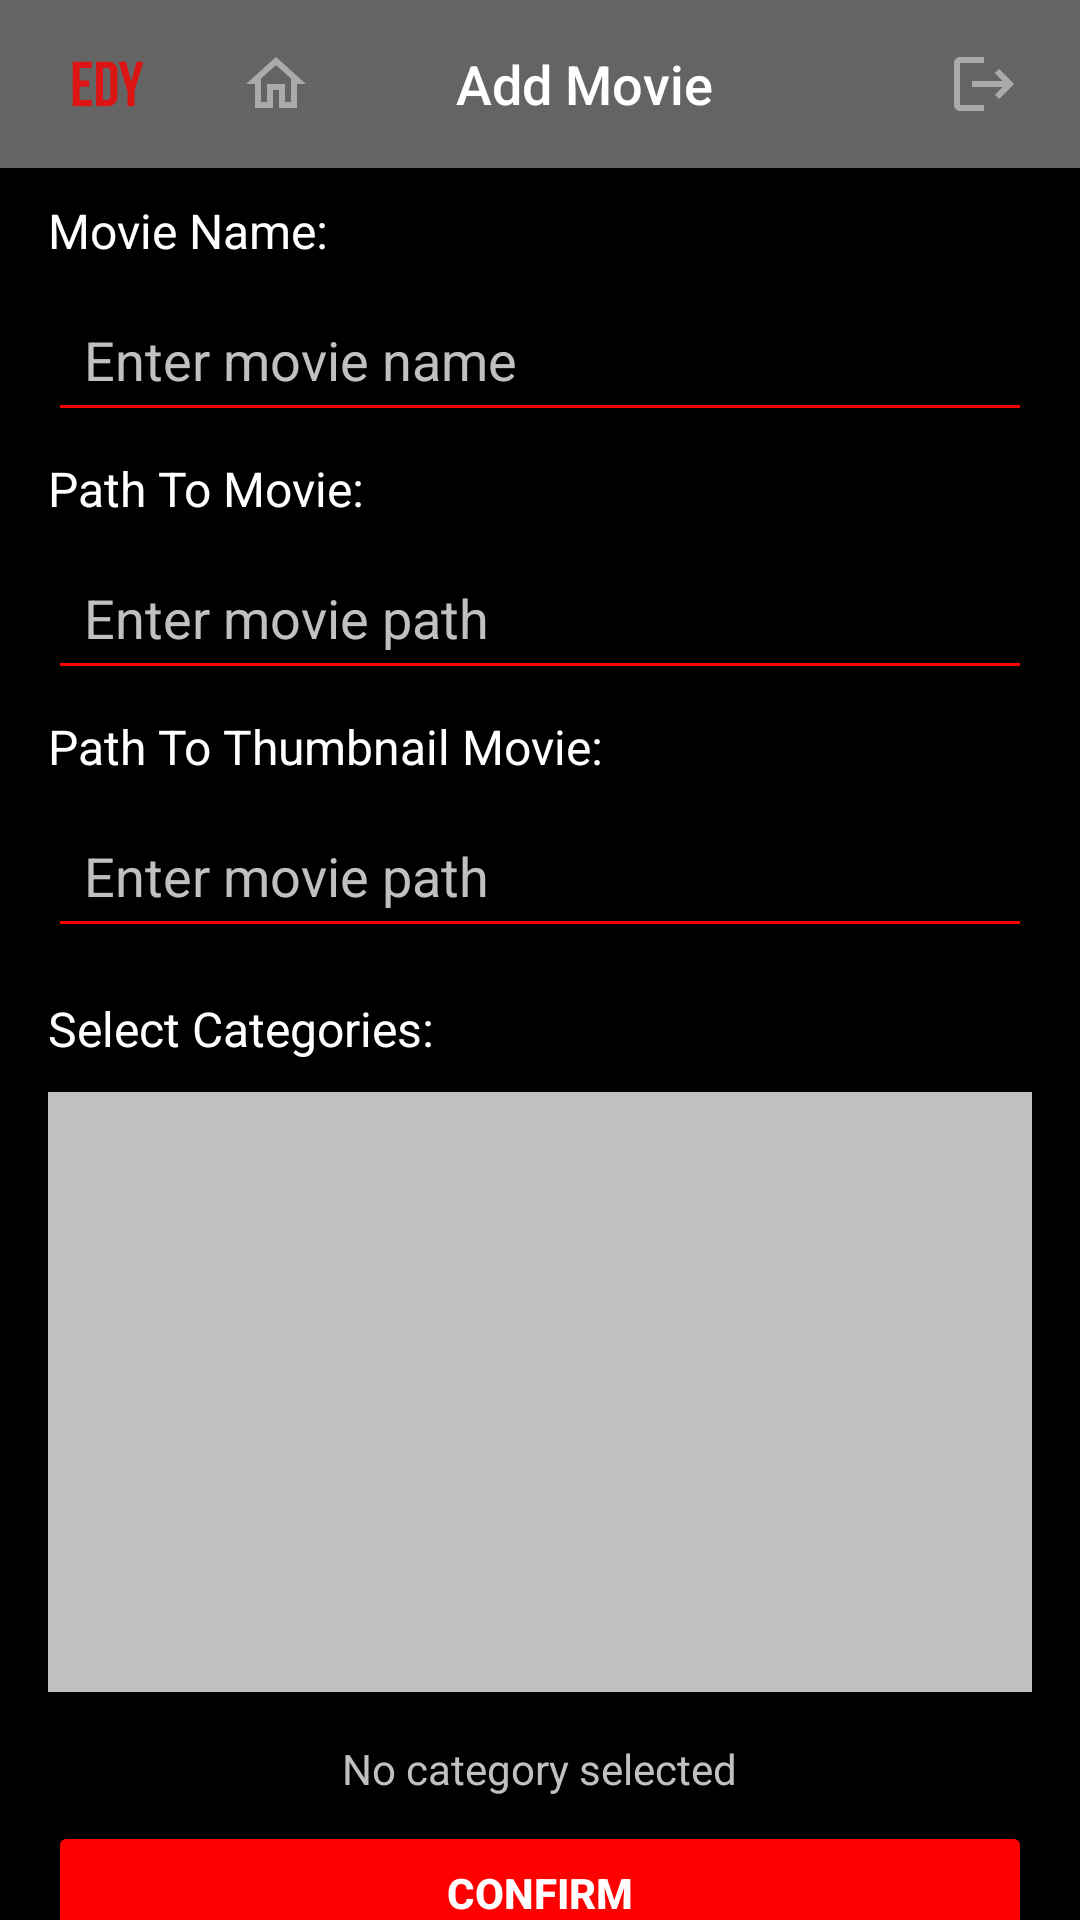

Screen size 1080px×1920px. Icon name, then its center in pixels as (x,y):
Home Button: (276,82)
